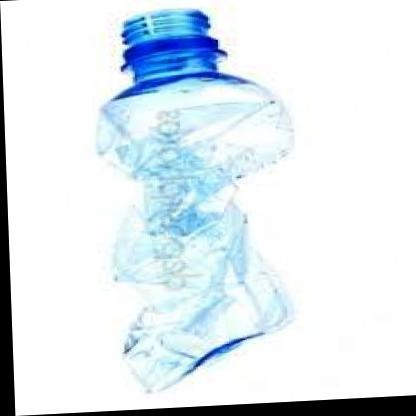trash: (97, 9, 293, 390)
